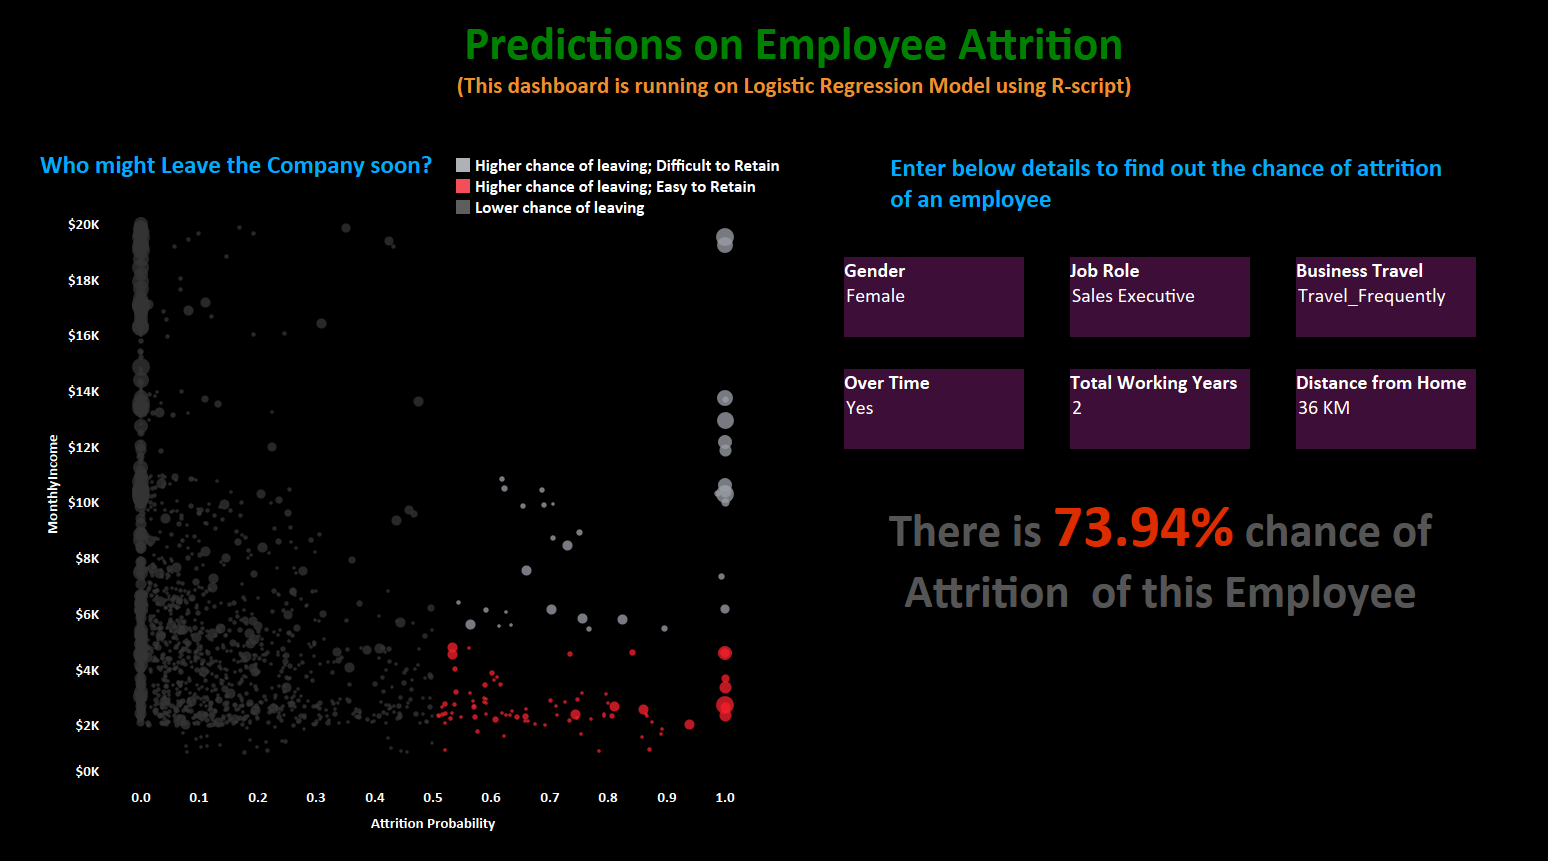

Layout of this report page (visuals, bound fields, positions):
{"tool":"tableau","page":{"name":"Predictions on Employee Attrition-Functional Dashboard","canvas":[1548,861],"ordinal":3},"visuals":[{"type":"worksheet","box":[0,0,1548,861]},{"type":"worksheet","param":"vert","box":[8,8,1532,845]},{"type":"worksheet","box":[8,8,1532,845]},{"type":"worksheet","box":[94,13,1400,89]},{"type":"worksheet","box":[37,17,403,81]},{"type":"worksheet","title":"Current Scenario","mark":"Circle","rows":["MonthlyIncome"],"box":[36,143,724,697]},{"type":"worksheet","box":[887,143,569,81]},{"type":"worksheet","title":"Current Scenario","mark":"Circle","rows":["MonthlyIncome"],"param":"[federated.1ip92qm1c86bvk198j2931qhs92r].[usr:Calculation_2461498689824030724:nk","box":[453,155,345,77]},{"type":"worksheet","param":"[Parameters].[Parameter 8]","box":[844,257,180,80]},{"type":"worksheet","param":"[Parameters].[Parameter 9]","box":[1070,257,180,80]},{"type":"worksheet","param":"[Parameters].[Parameter 4]","box":[1296,257,180,80]},{"type":"worksheet","param":"[Parameters].[Parameter 10]","box":[844,369,180,80]},{"type":"worksheet","param":"[Parameters].[Parameter 11]","box":[1070,369,180,80]},{"type":"worksheet","param":"[Parameters].[Parameter 7]","box":[1296,369,180,80]},{"type":"worksheet","title":"Enter your value","mark":"Text","box":[842,483,637,246]},{"type":"worksheet","box":[822,631,678,128]}]}

Visuals, with their boxes in screenshot pixels (x1, y1, x2, y2), scaled from the page's 1548x861 canvas onto the 1548x861 screenshot:
worksheet: (0,0,1547,860)
worksheet: (8,8,1540,853)
worksheet: (8,8,1540,853)
worksheet: (94,13,1494,102)
worksheet: (37,17,440,98)
"Current Scenario" worksheet (Circle marks): (36,143,760,840)
worksheet: (887,143,1456,224)
"Current Scenario" worksheet (Circle marks): (453,155,798,232)
worksheet: (844,257,1024,337)
worksheet: (1070,257,1250,337)
worksheet: (1296,257,1476,337)
worksheet: (844,369,1024,449)
worksheet: (1070,369,1250,449)
worksheet: (1296,369,1476,449)
"Enter your value" worksheet (Text marks): (842,483,1479,729)
worksheet: (822,631,1500,759)
